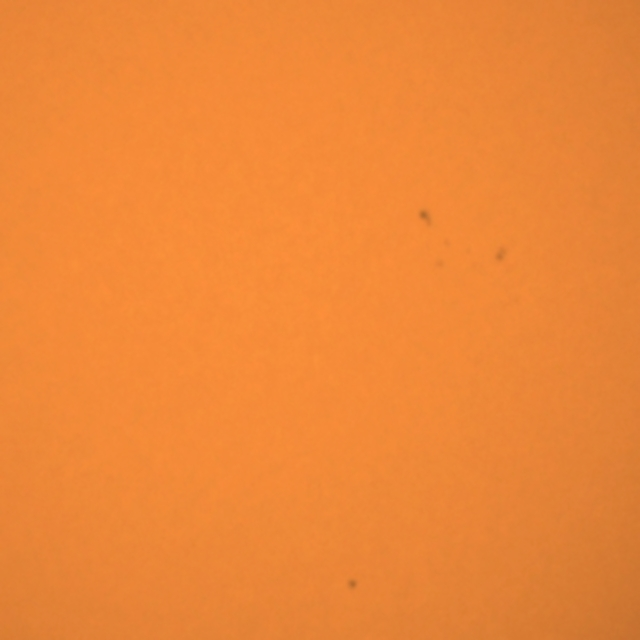sunspot: (416, 206, 436, 230), (492, 244, 510, 266), (344, 576, 360, 593)
